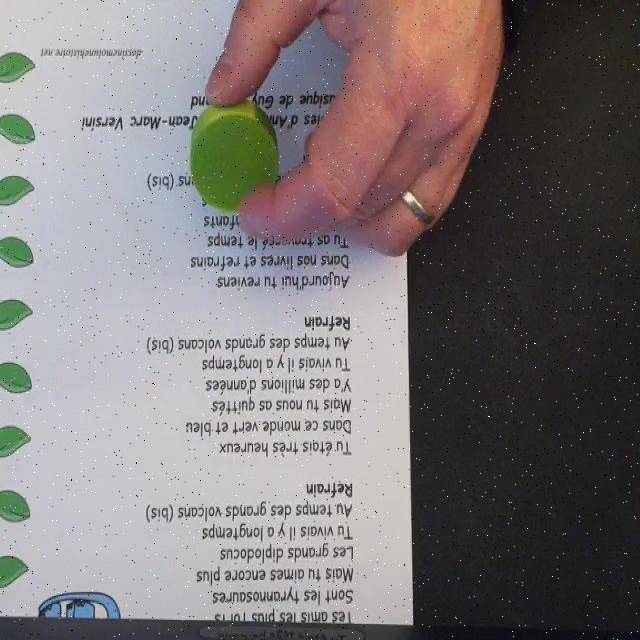round: (189, 102, 279, 212)
